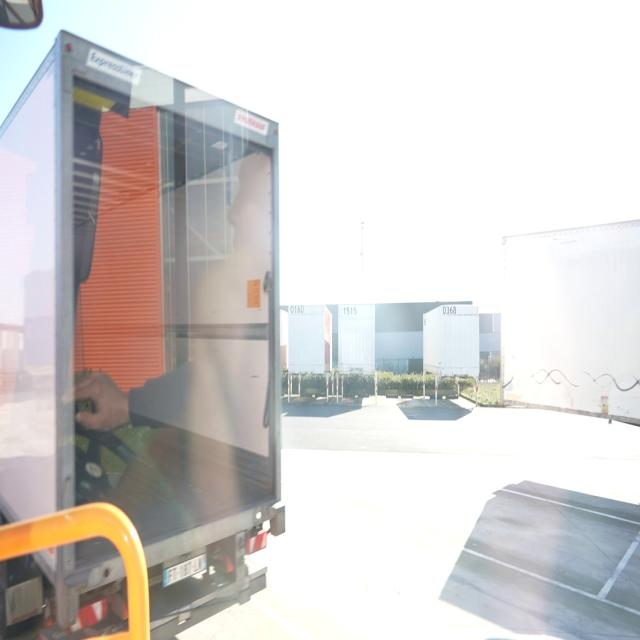Code: (342, 300, 360, 325), (441, 302, 462, 321), (288, 302, 306, 320)
